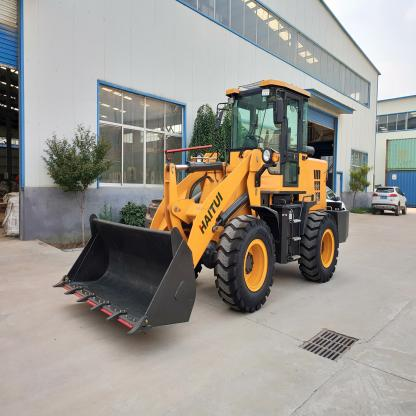bull_dozer/loader/grader: (51, 69, 362, 337)
